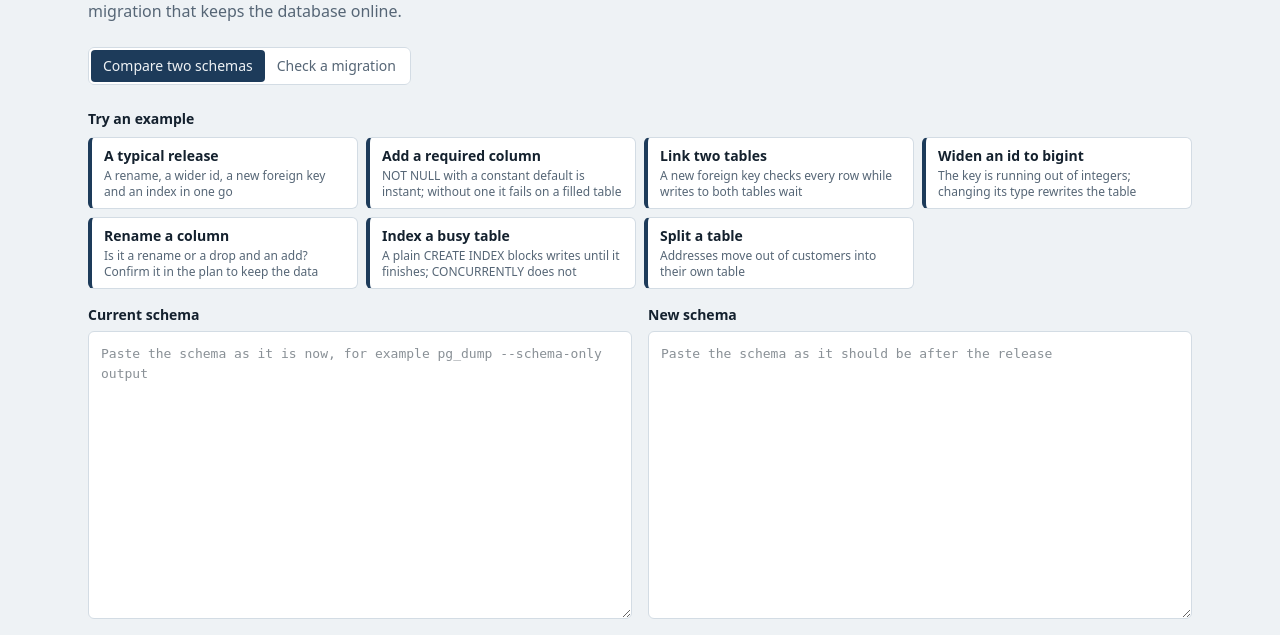
Test: Compare two schemas › draws the diagram of both schemas
Click the button "A typical release": point(223, 173) [88,137,358,209]
(page scrolled)
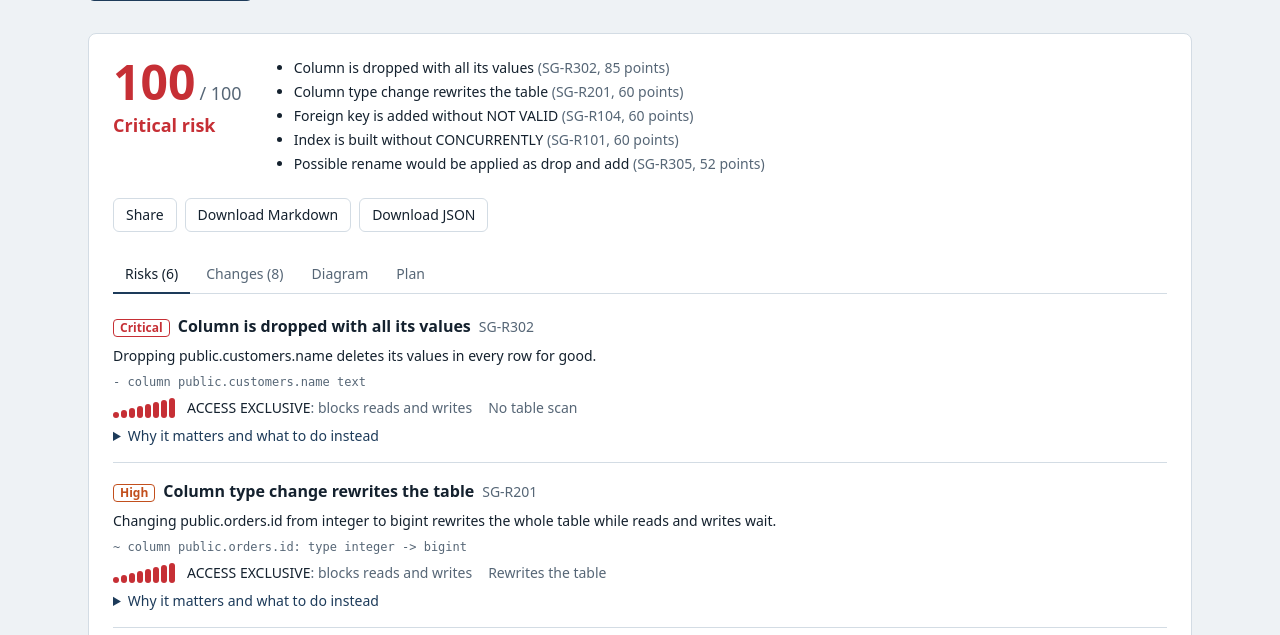
expect the element named "Overall risk" is shown: met, box [113,49,765,173]
Click the tab "Diagram": point(340, 275) [300,256,380,294]
(page scrolled)
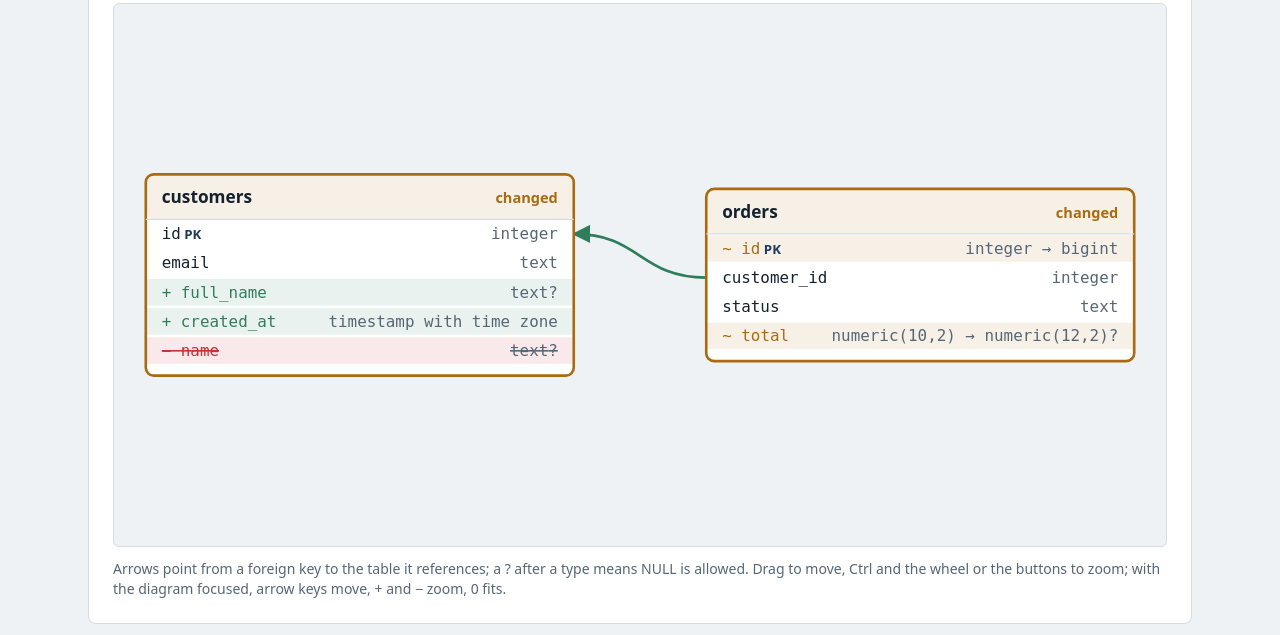
expect the picture named "Diagram of 2 tables" is shown: met
